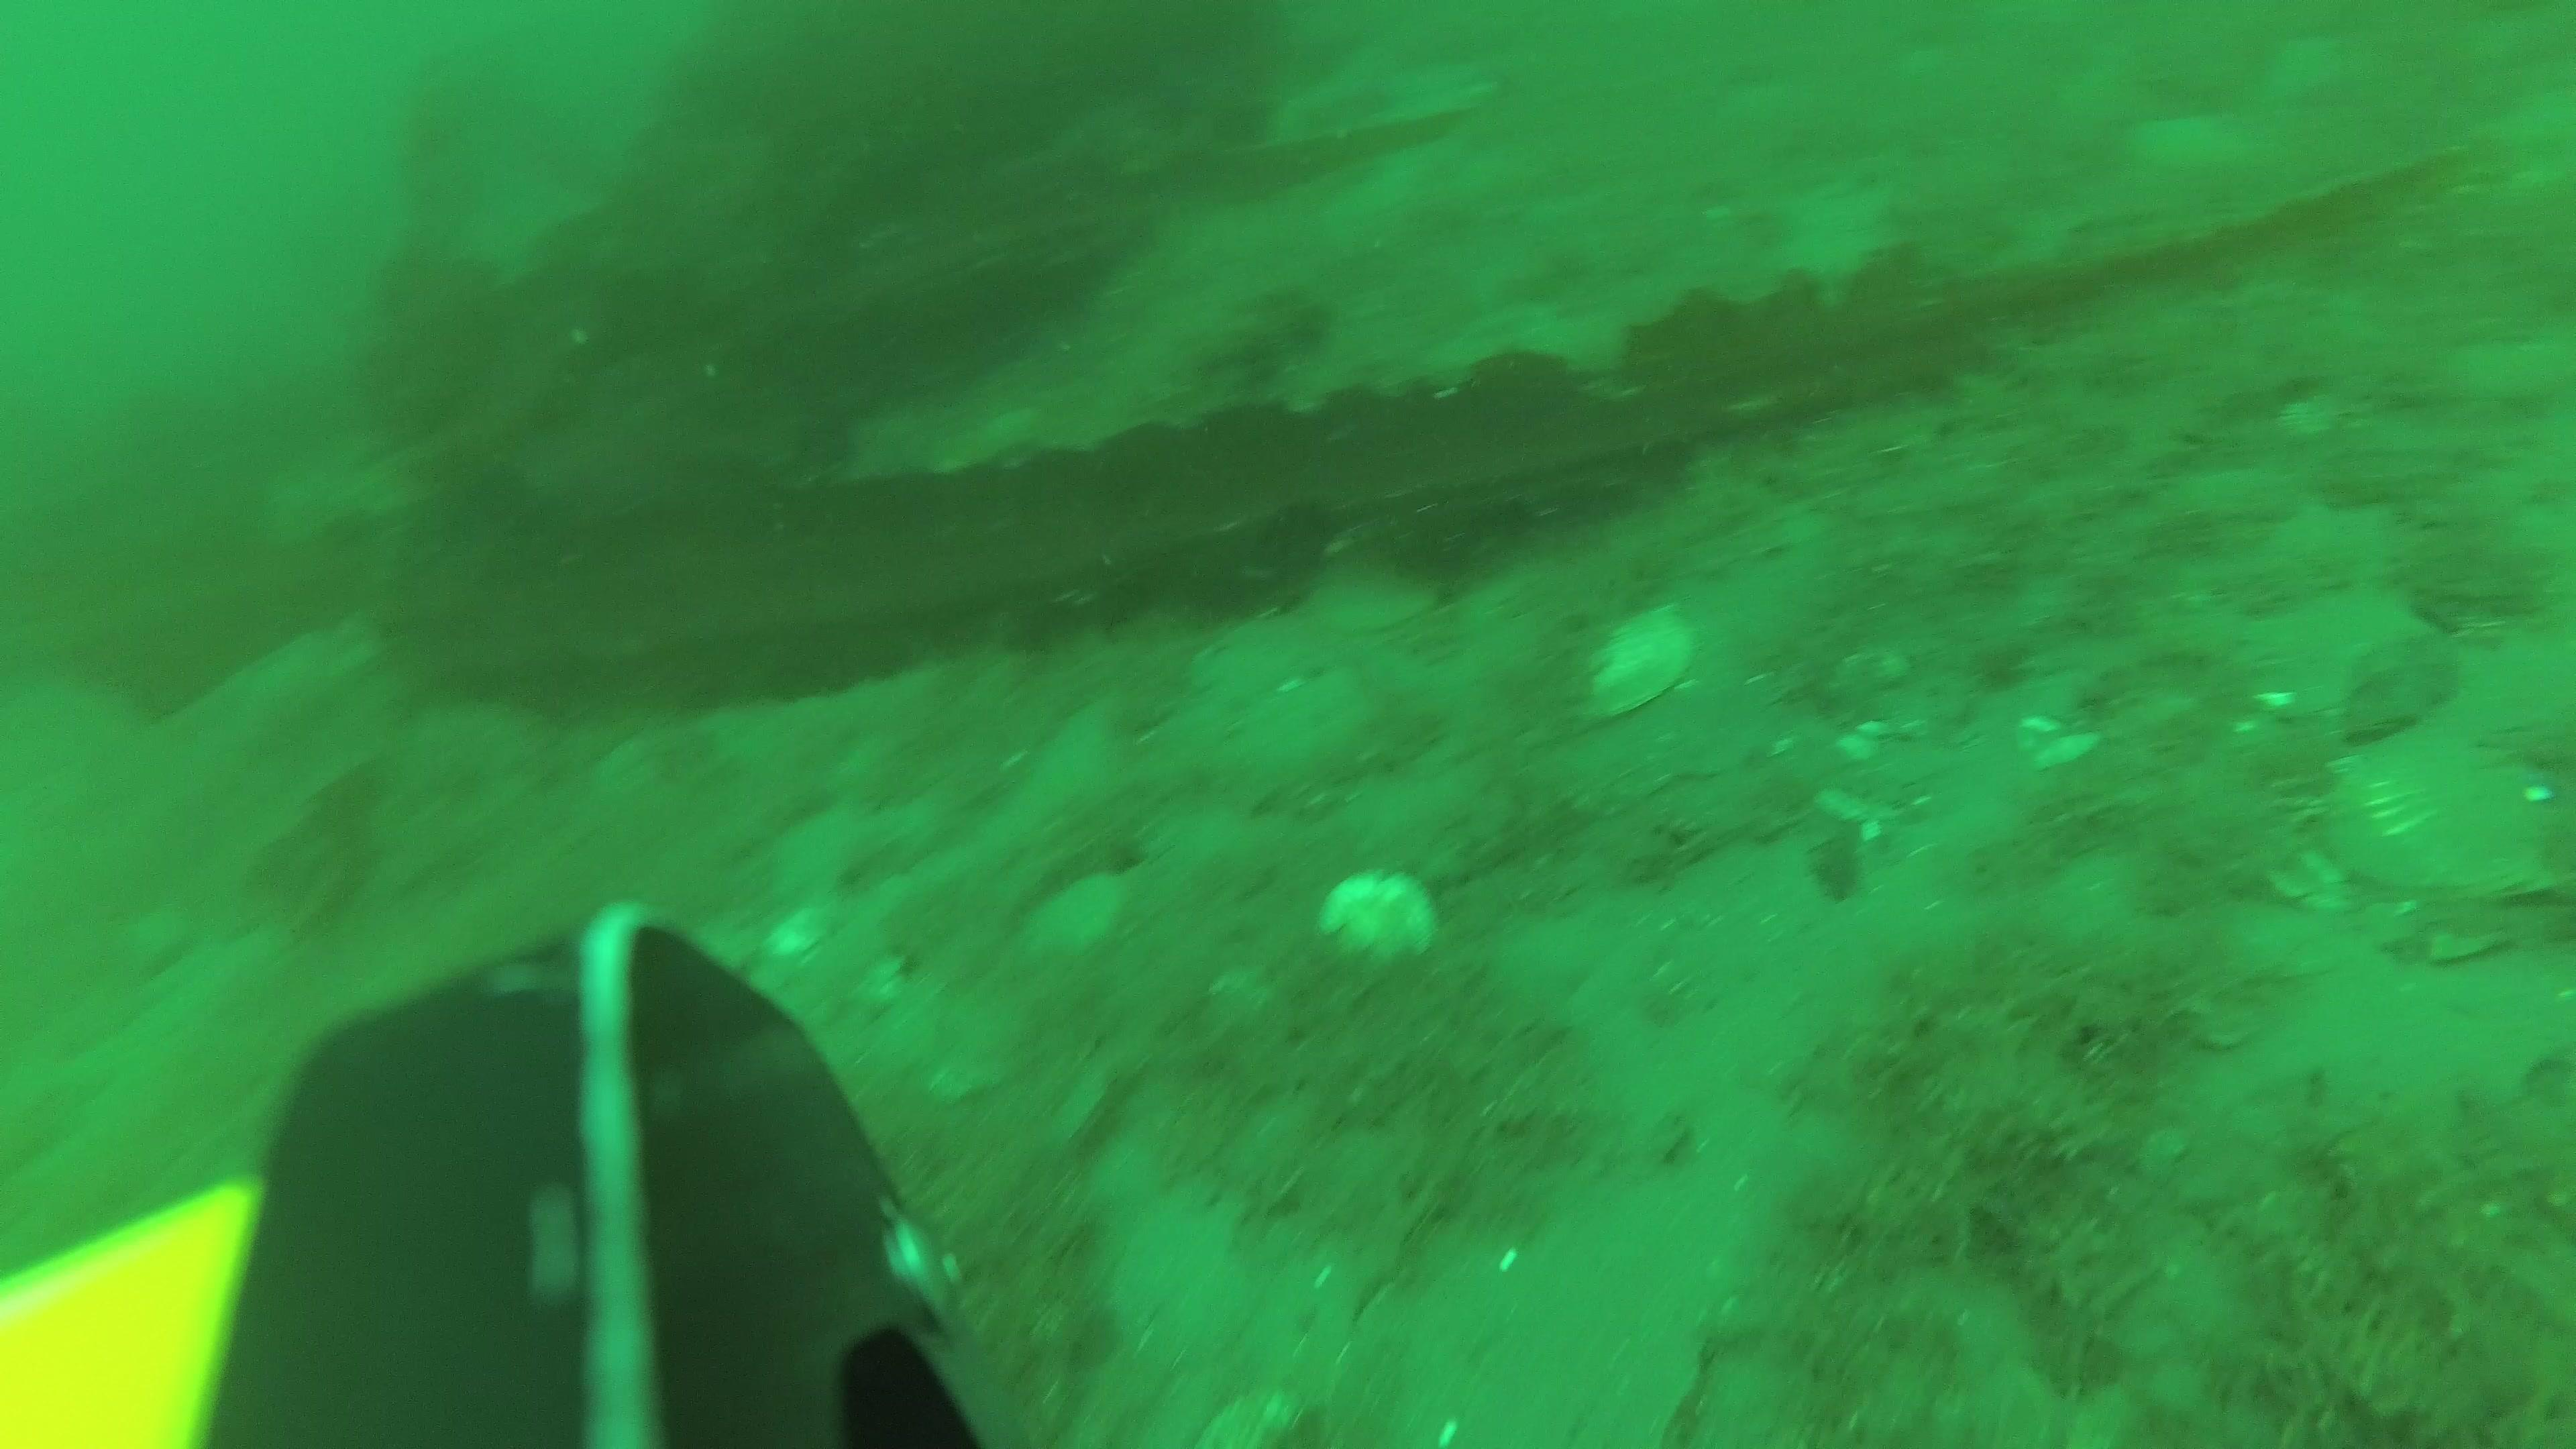scallop: (2321, 717, 2546, 888), (1566, 609, 1706, 717), (1313, 863, 1430, 955), (1306, 561, 1445, 637)
